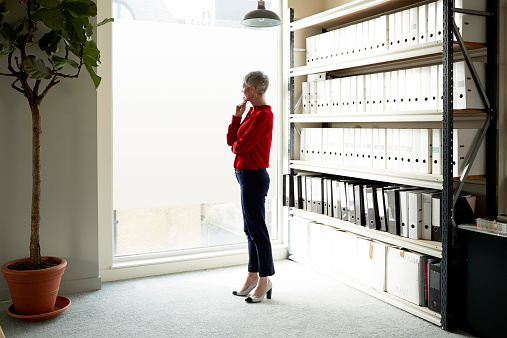em pe: (214, 51, 282, 310)
